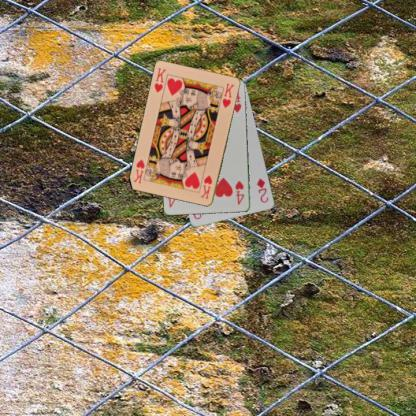2d: (254, 176, 270, 204)
4h: (233, 178, 245, 206)
Kh: (152, 66, 168, 94), (198, 173, 214, 200)
